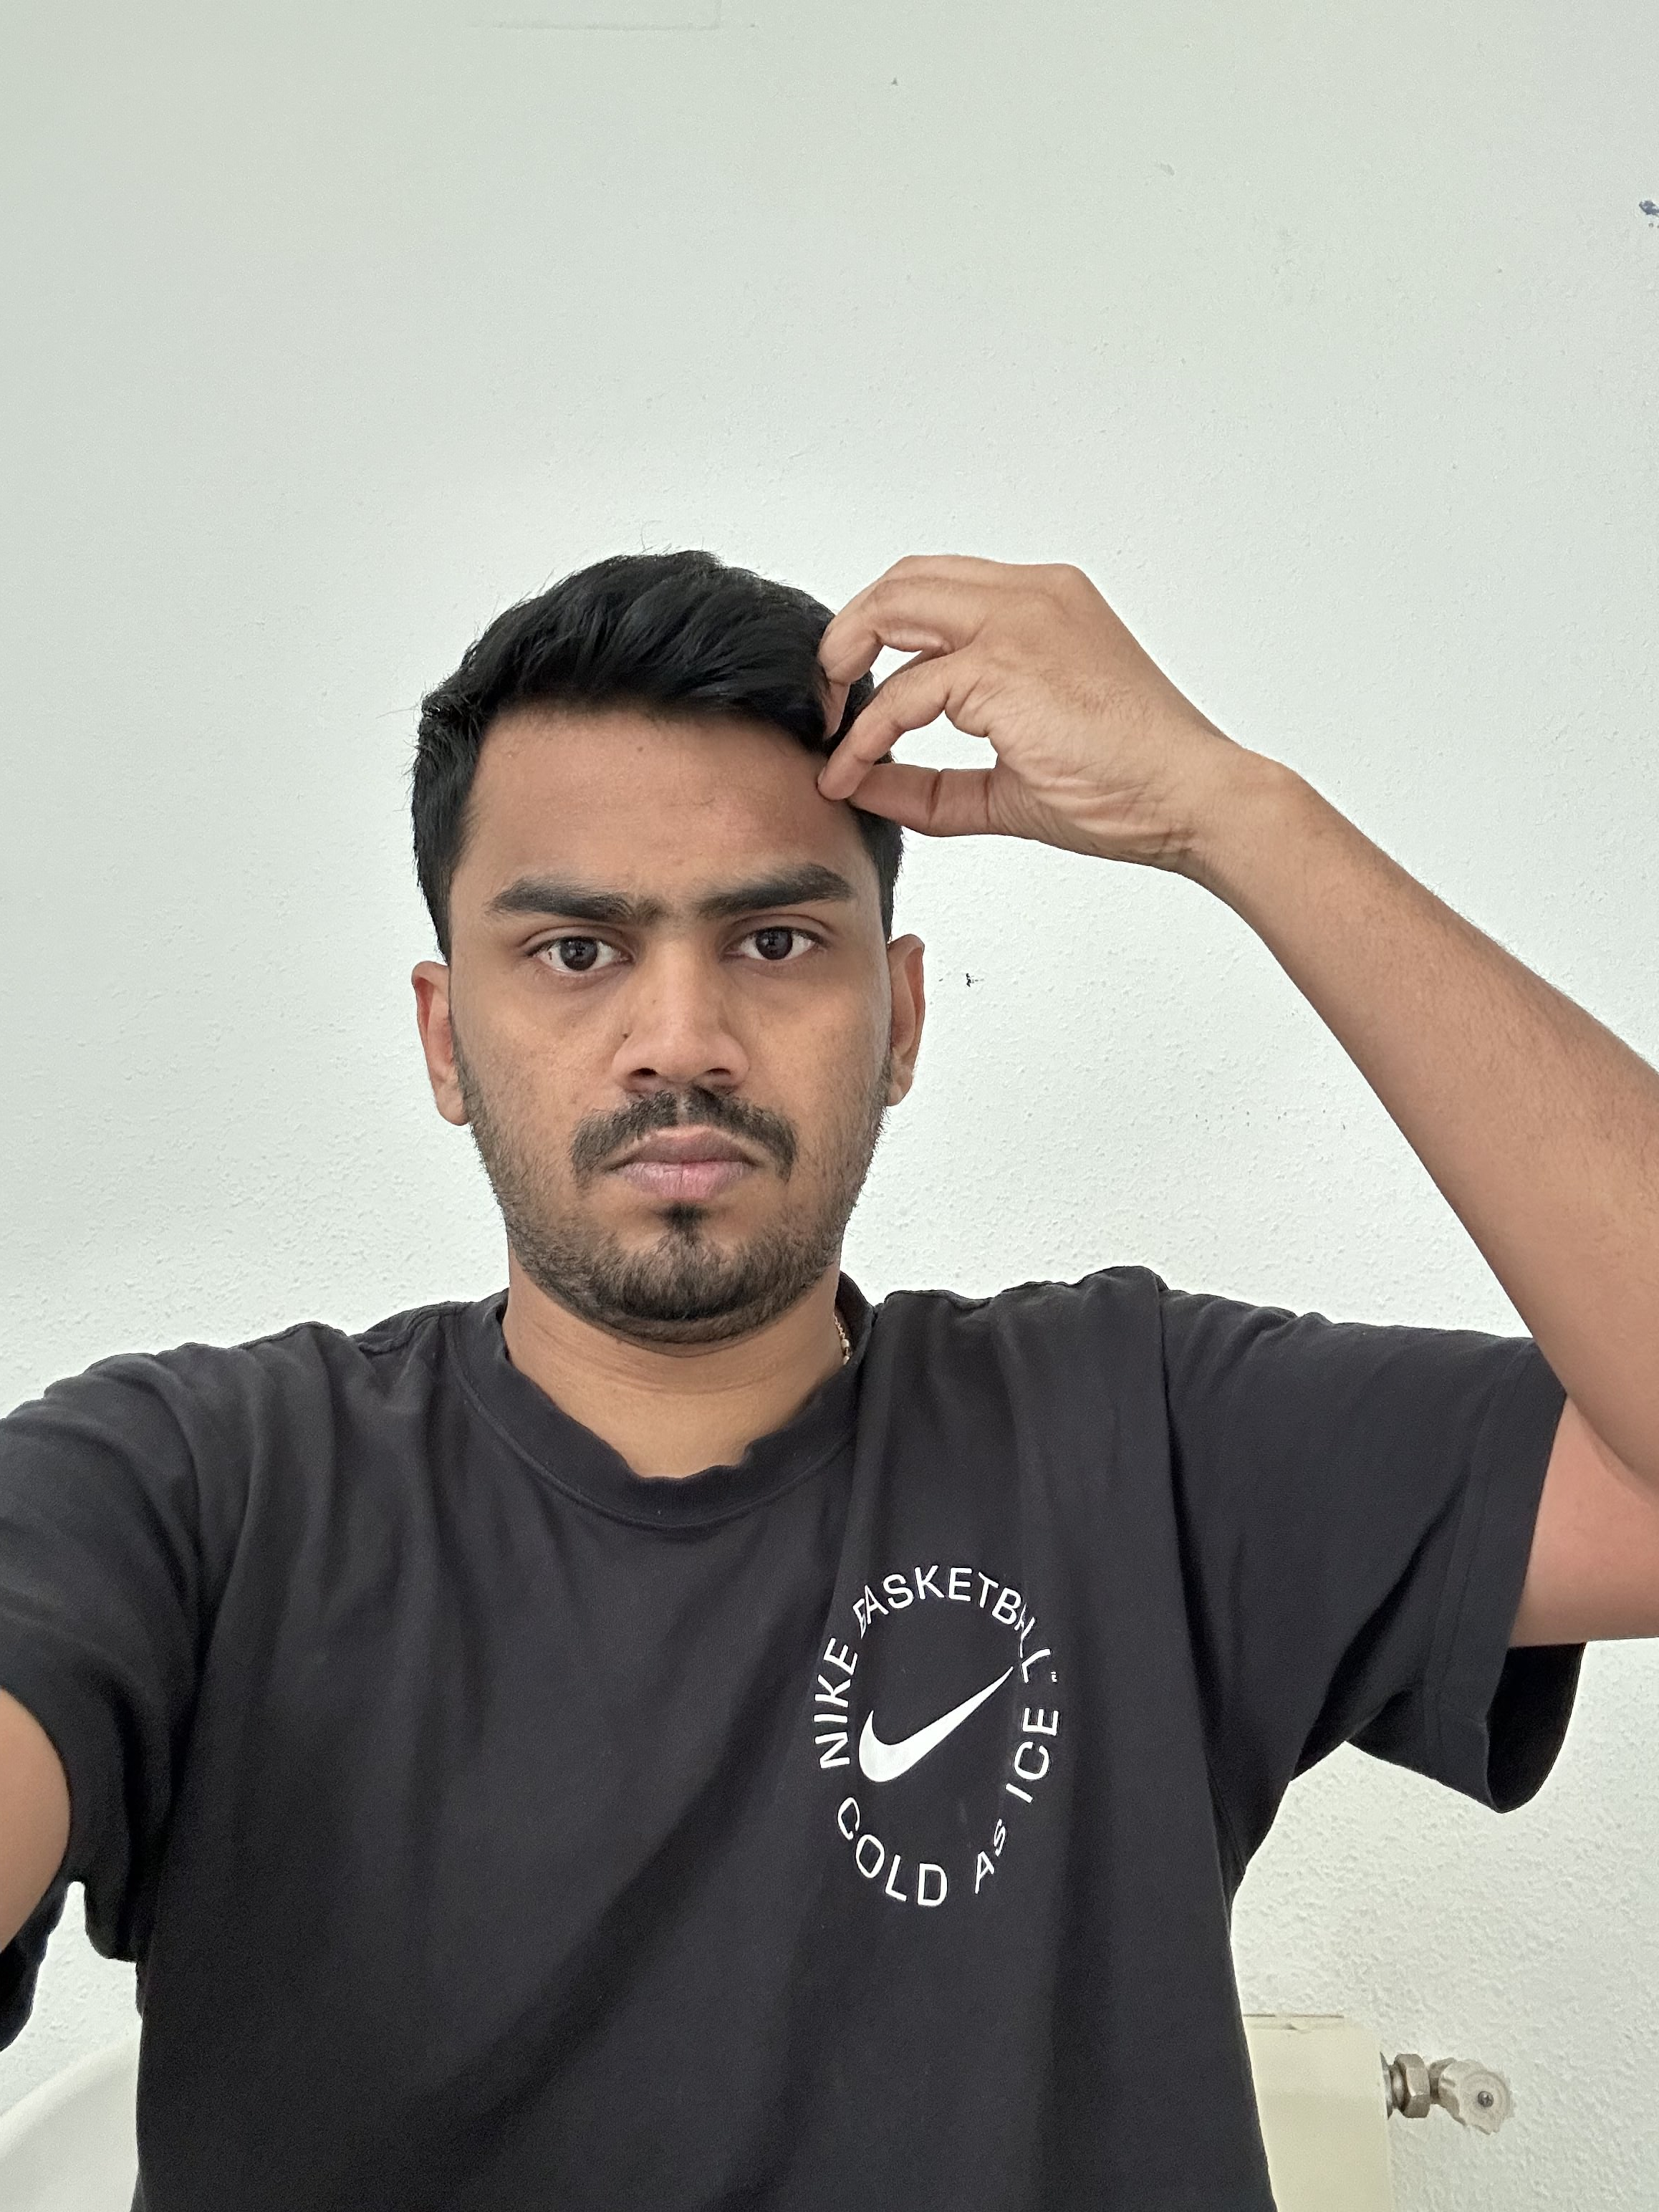brain: (3, 545, 1650, 2205), (807, 1557, 1066, 1912)
